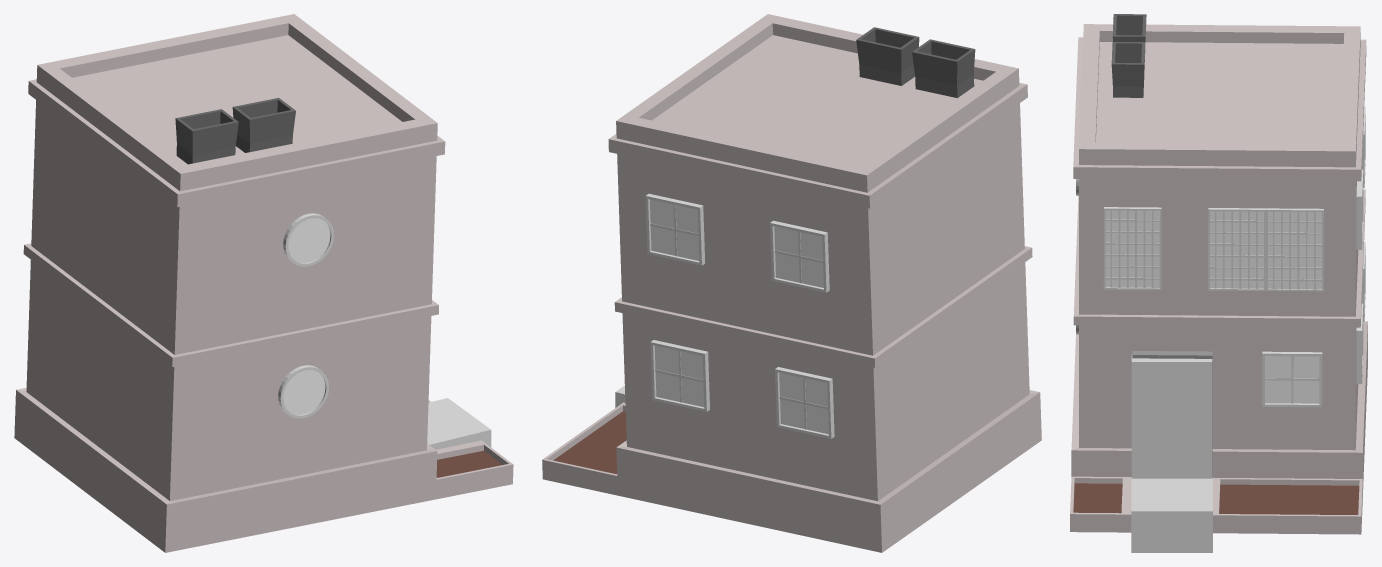
The model's file is RUMAH_3.gltf.
The picture shows the model from 3 angles, left to right: view 1: azimuth 30°, elevation 25°; view 2: azimuth 150°, elevation 25°; view 3: azimuth 270°, elevation 25°; orthographic projection. The views are drawn at different scales.
Visible parts, largest first — view 1: Cube, Cube.003, Cylinder.001, Cylinder.002; view 2: Cube, jendela_kn_2, jendela_km_1, jendela_kn_4, jendela_KN3; view 3: Cube, Cube.002, Cube.003, jendela_t_3, jendela_t_1, jendela_t_2, jendela_d, pintu, jendela_KN3, jendela_km_1.
Boxes of the visible parts, x1,y1,x2,y2 form: Cube: [14, 14, 513, 552]; Cube.003: [427, 398, 491, 449]; Cylinder.001: [278, 365, 328, 418]; Cylinder.002: [283, 213, 333, 266]; Cube: [542, 14, 1041, 552]; jendela_kn_2: [775, 367, 834, 438]; jendela_km_1: [650, 340, 709, 411]; jendela_kn_4: [770, 220, 829, 292]; jendela_KN3: [645, 193, 705, 265]; Cube: [1070, 14, 1367, 534]; Cube.002: [1131, 355, 1212, 478]; Cube.003: [1131, 478, 1212, 552]; jendela_t_3: [1266, 208, 1323, 291]; jendela_t_1: [1103, 207, 1161, 290]; jendela_t_2: [1208, 208, 1265, 290]; jendela_d: [1262, 351, 1322, 407]; pintu: [1132, 351, 1212, 478]; jendela_KN3: [1356, 169, 1363, 249]; jendela_km_1: [1356, 303, 1363, 383].
Size of the model in its own units: 8.46 by 9.68 by 6.56.
